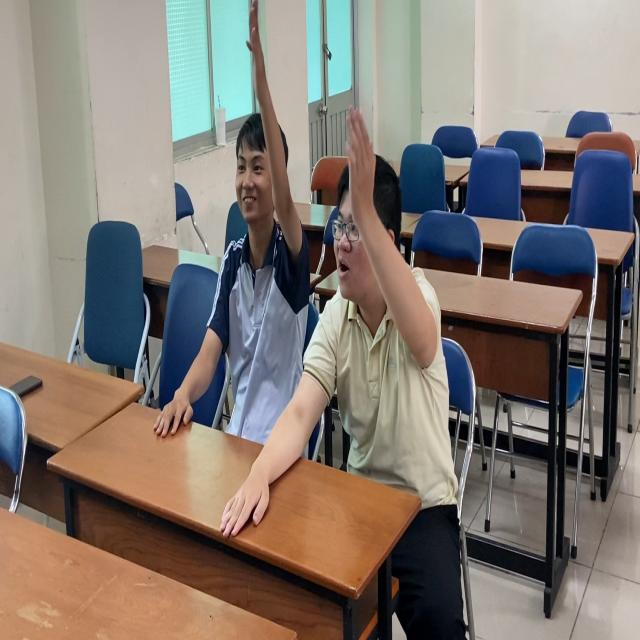raise_hand: (194, 1, 312, 442), (319, 116, 444, 484)
